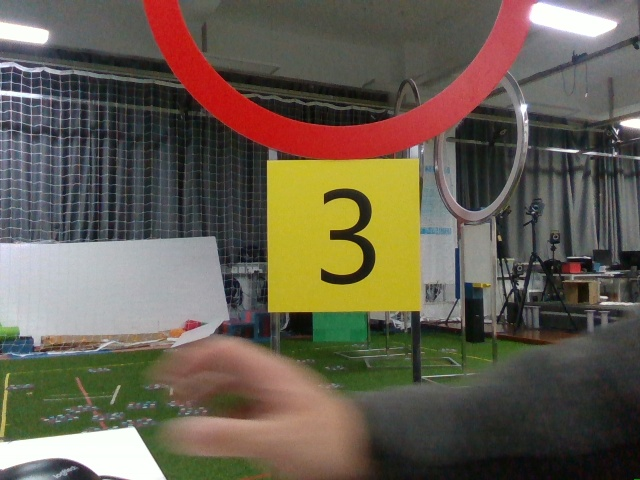target: (272, 164, 407, 308)
